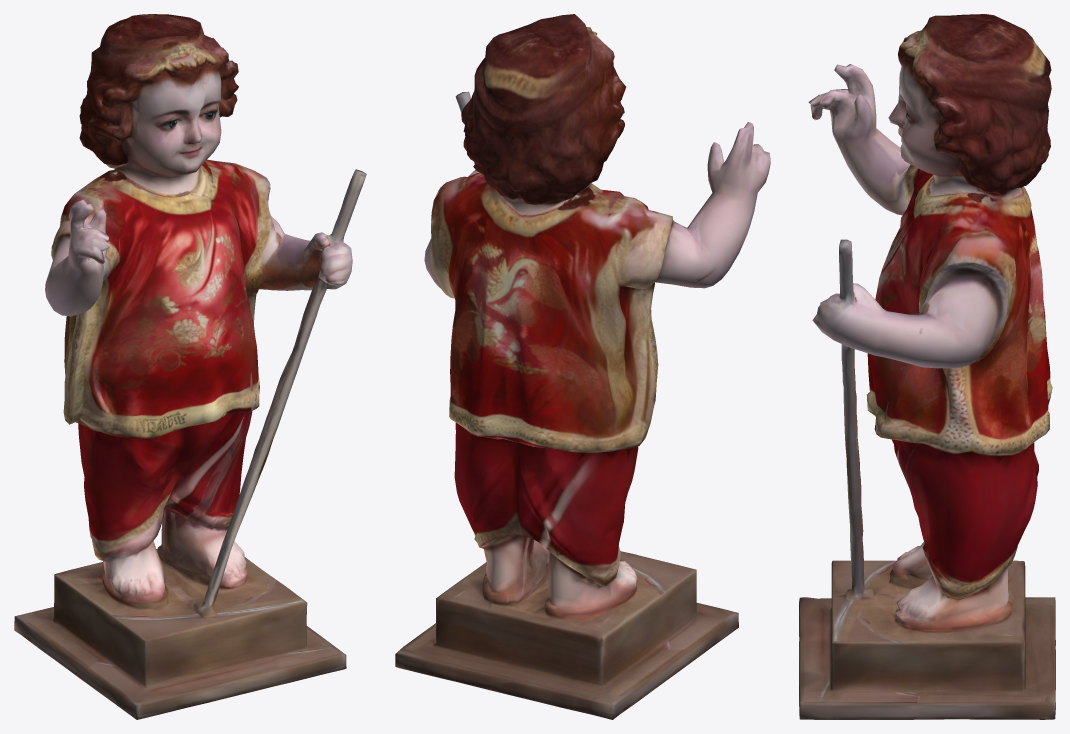
3 renders of one model, left to right at view 1: azimuth 30°, elevation 25°; view 2: azimuth 150°, elevation 25°; view 3: azimuth 270°, elevation 25°, orthographic. The views are drawn at different scales.
Visible parts, largest first — view 1: Mesh1.0; view 2: Mesh1.0; view 3: Mesh1.0.
Part boxes in pixels (box(x1,y1,x2,y2)): Mesh1.0: box(14, 14, 366, 719); Mesh1.0: box(395, 14, 770, 719); Mesh1.0: box(799, 14, 1055, 719).
Bounding box in the file's own units: 0.9616 × 1.91 × 0.69.
1 material, 1 textured.
